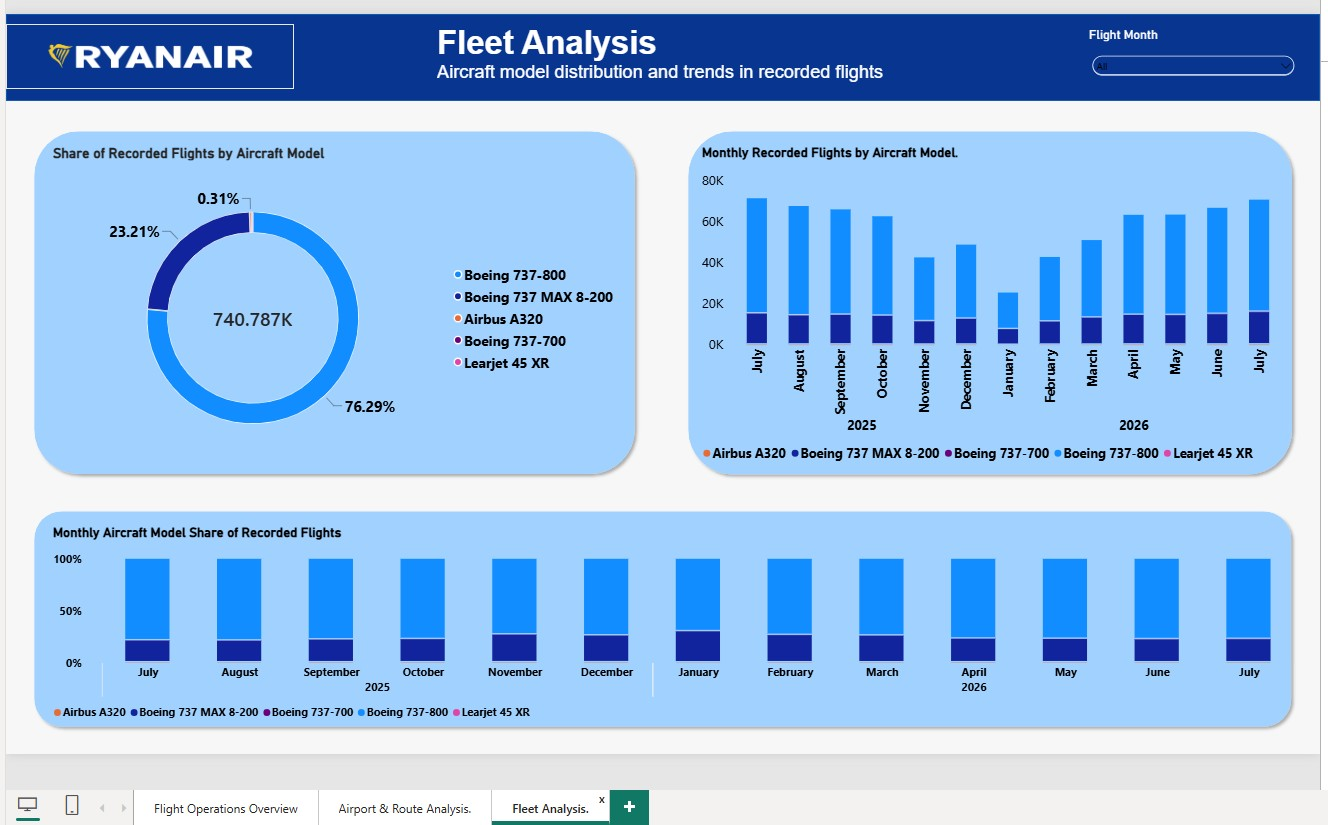

What the dashboard file says about the page in this screenshot:
{"tool":"powerbi","page":{"name":"Fleet Analysis.","canvas":[1920,1080],"ordinal":2},"visuals":[{"type":"shape","box":[32.5,717.5,1854.9,333.2],"z":0},{"type":"shape","box":[0,0,1920,127.1],"z":1000},{"type":"shape","box":[32.5,162.7,895.7,519.1],"z":2000},{"type":"shape","box":[987.1,162.4,900.4,519.8],"z":3000},{"type":"donutChart","title":"Share of Recorded Flights by Aircraft Model","fields":{"Category":["ryanair_project ryanair_flights.aircraft_model_clean"],"Y":["ryanair_project ryanair_flights.Total Flight Records"]},"box":[52.7,176.7,860,497.4],"z":4000},{"type":"hundredPercentStackedColumnChart","title":"Monthly Aircraft Model Share of Recorded Flights","fields":{"Category":["ryanair_project ryanair_flights.Month Start.Variation.Date Hierarchy.Year","ryanair_project ryanair_flights.Month Start.Variation.Date Hierarchy.Month"],"Series":["ryanair_project ryanair_flights.aircraft_model_clean"],"Y":["ryanair_project ryanair_flights.Total Flight Records"]},"box":[52.8,731.5,1867.2,319.7],"z":5000},{"type":"columnChart","title":"Monthly Recorded Flights by Aircraft Model.","fields":{"Category":["ryanair_project ryanair_flights.Month Start.Variation.Date Hierarchy.Year","ryanair_project ryanair_flights.Month Start.Variation.Date Hierarchy.Month"],"Series":["ryanair_project ryanair_flights.aircraft_model_clean"],"Y":["ryanair_project ryanair_flights.Total Flight Records"]},"box":[1001.1,176.7,886.4,497.4],"z":6000},{"type":"image","box":[0,13.9,420.8,95.9],"z":7000},{"type":"slicer","title":"Flight Month","fields":{"Values":["ryanair_project ryanair_flights.Month Start"]},"box":[1582.2,18.6,305.3,91.4],"z":8000},{"type":"textbox","box":[629.2,13.9,936,96.1],"z":9000}]}

Visuals, with their boxes on the page's 1920x1080 design canvas (x1, y1, x2, y2). These are canvas units, not pixel positions in the 1328x825 screenshot, which may show the page scaled, cropped or inside an application window:
shape: [32, 718, 1887, 1051]
shape: [0, 0, 1920, 127]
shape: [32, 163, 928, 682]
shape: [987, 162, 1888, 682]
"Share of Recorded Flights by Aircraft Model" donutChart: [53, 177, 913, 674]
"Monthly Aircraft Model Share of Recorded Flights" hundredPercentStackedColumnChart: [53, 732, 1920, 1051]
"Monthly Recorded Flights by Aircraft Model." columnChart: [1001, 177, 1888, 674]
image: [0, 14, 421, 110]
"Flight Month" slicer: [1582, 19, 1888, 110]
textbox: [629, 14, 1565, 110]
